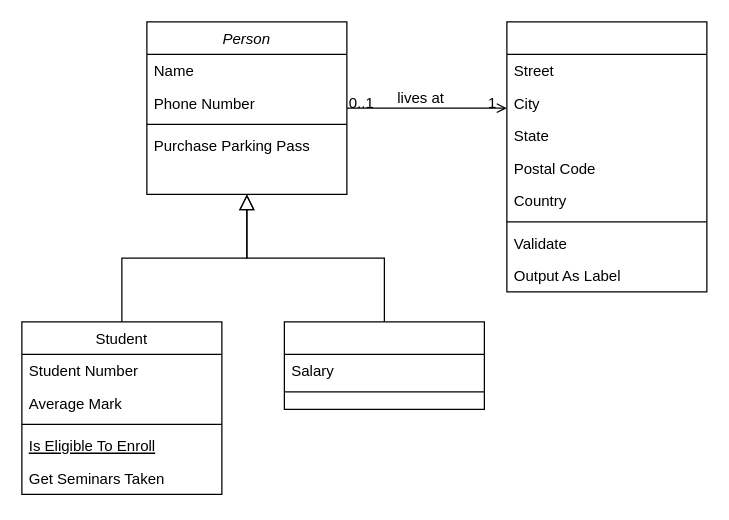
This 729x520 diagram has some shape labels left out. Here are the shapes that lost their labels. From the top down, the box of each, then its label:
(506, 21, 707, 292): Address
(283, 321, 484, 409): Professor
